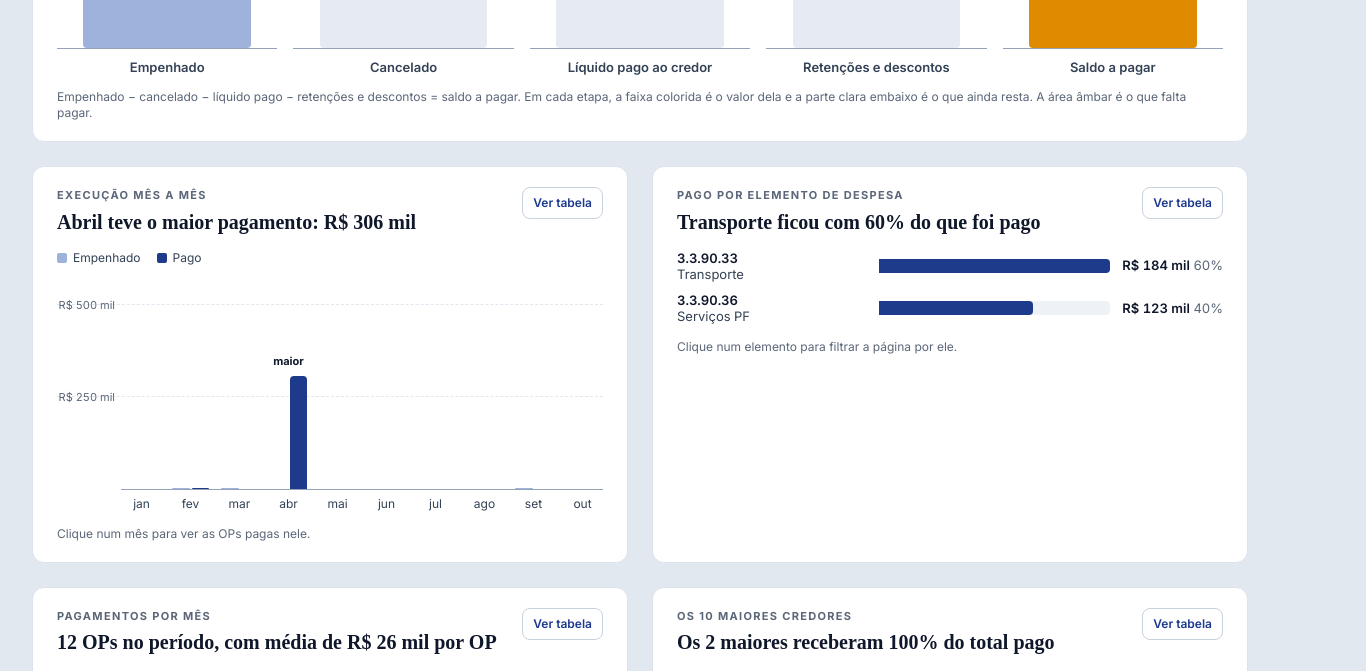
Scenario: Tela Análises › clicar num mês abre o painel com as OPs do recorte; não pede duas vezes
The width and height of the screenshot is (1366, 671).
(page scrolled)
Step 1. Click the button with aria-label "Abril: empenhado" → (288,384), box x1=268 y1=280 x2=309 y2=488
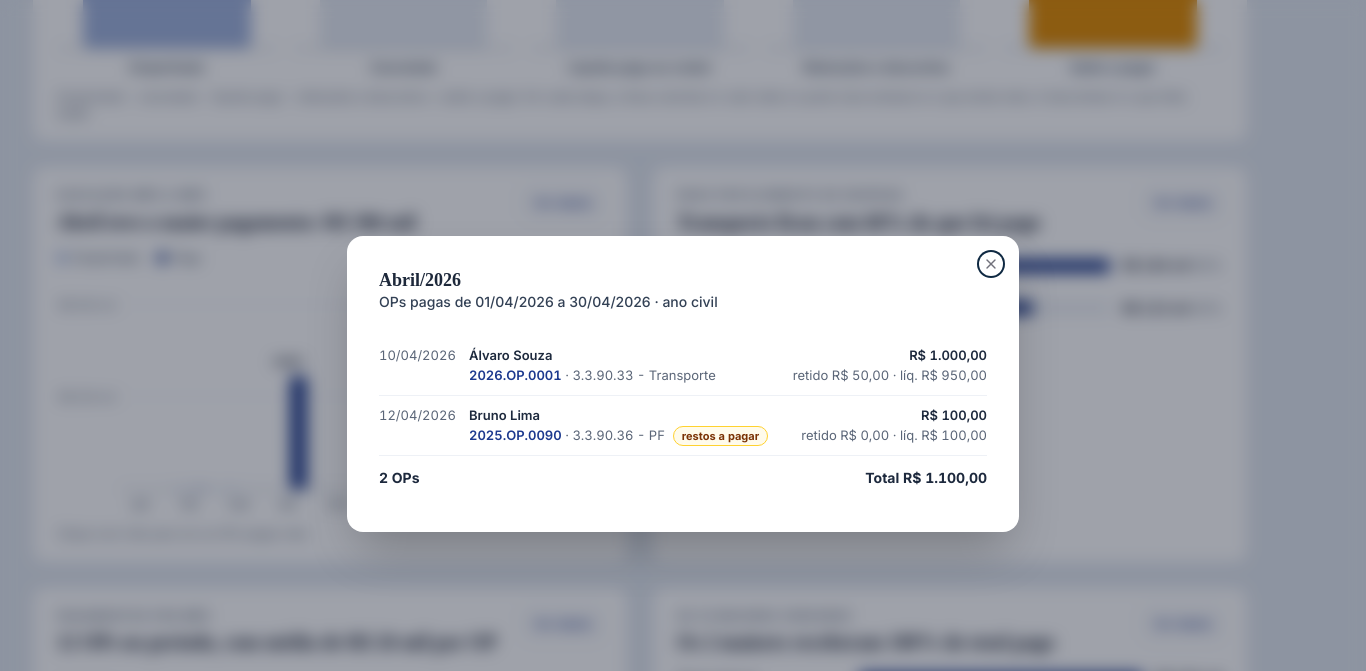
Now the heading "Abril/2026" is shown, box x1=379 y1=270 x2=461 y2=290
Now the text "Álvaro Souza" is shown, box x1=469 y1=347 x2=552 y2=363
Now the text "restos a pagar" is shown, box x1=673 y1=426 x2=768 y2=446
Step 2. Press Escape in the dialog, box x1=347 y1=236 x2=1019 y2=532
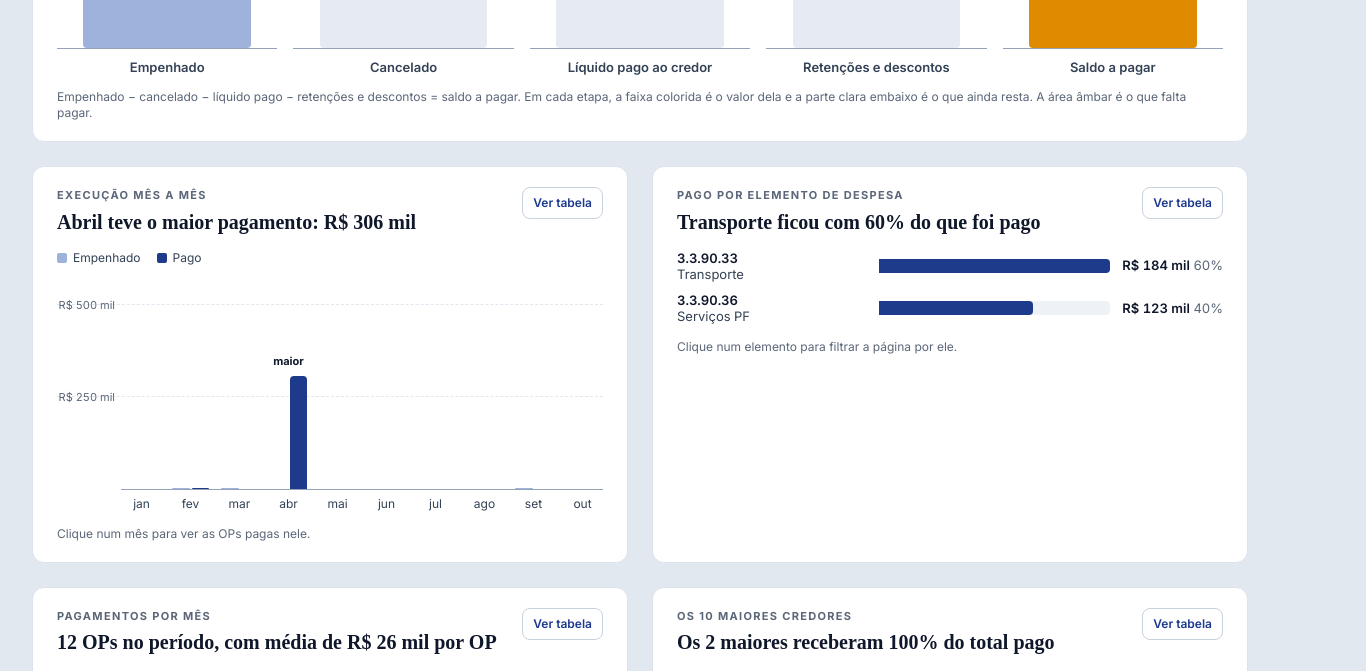
Now the dialog is gone
Step 3. Click the button with aria-label "Abril: empenhado" → (288,384), box x1=268 y1=280 x2=309 y2=488
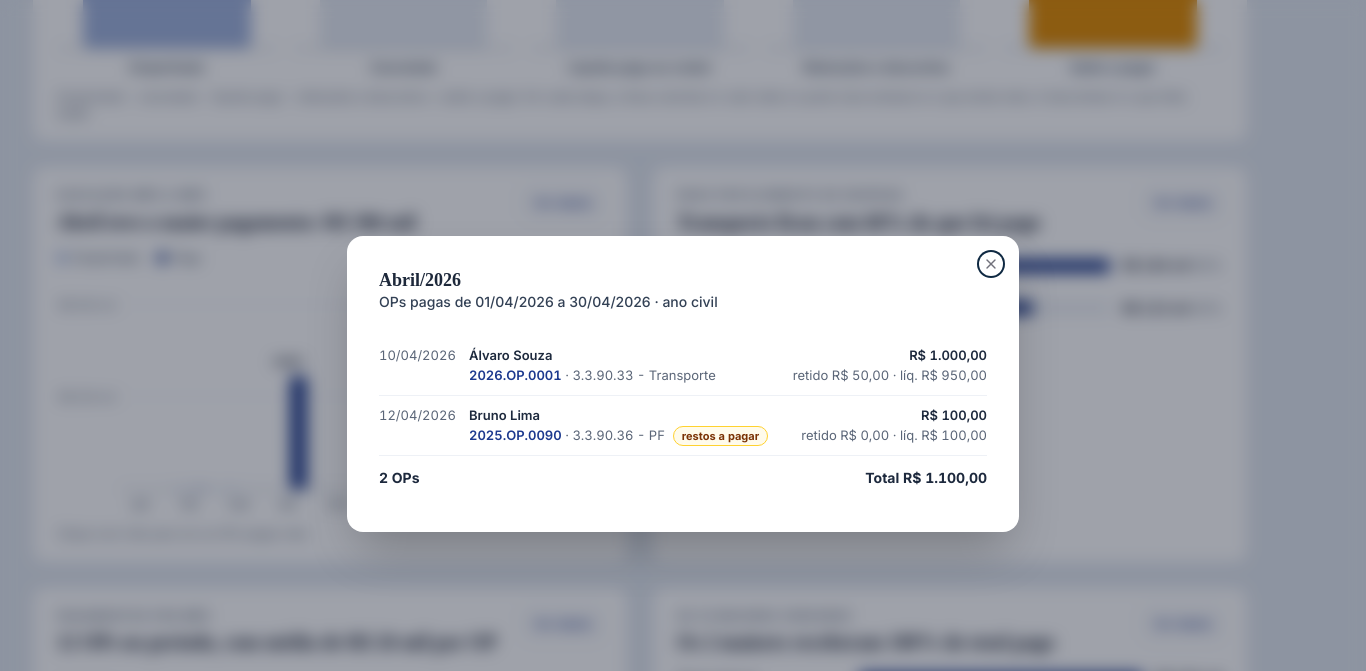
Now the dialog is shown, box x1=347 y1=236 x2=1019 y2=532
